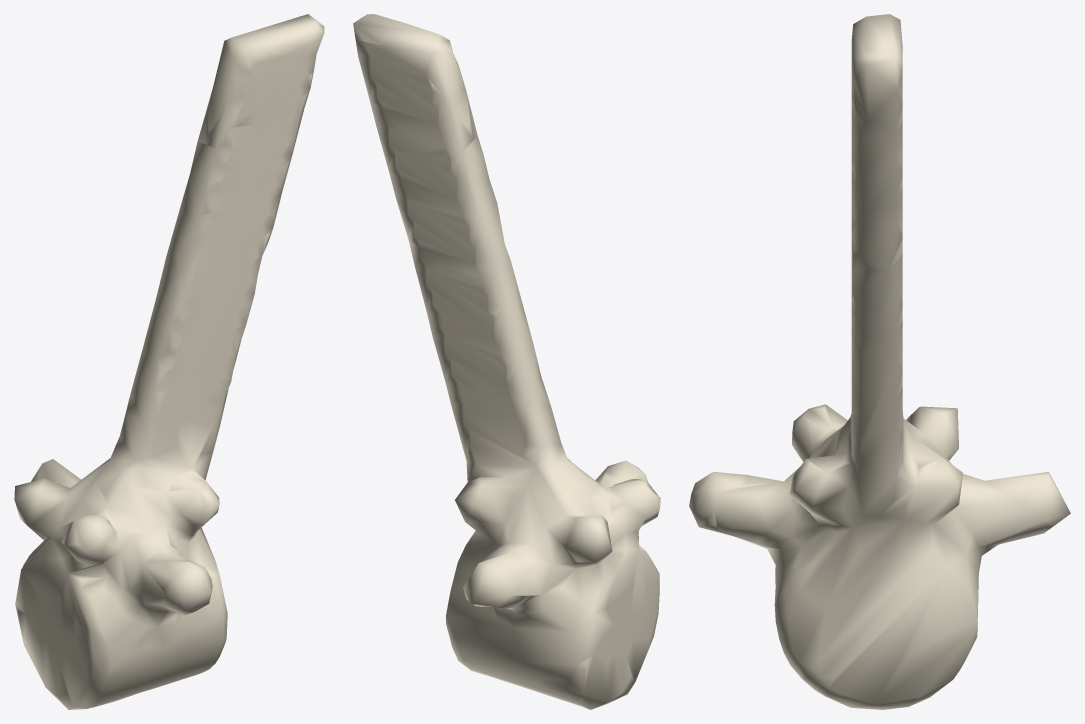
The model's file is thoracic_6.glb.
3 renders of one model, left to right at view 1: azimuth 30°, elevation 25°; view 2: azimuth 150°, elevation 25°; view 3: azimuth 270°, elevation 25°, orthographic. The views are drawn at different scales.
Visible parts, largest first — view 1: geometry_0; view 2: geometry_0; view 3: geometry_0.
Boxes of the visible parts, x1,y1,x2,y2 form: geometry_0: [14, 14, 324, 709]; geometry_0: [353, 14, 660, 709]; geometry_0: [689, 14, 1070, 709].
Bounding box in the file's own units: 0.1805 × 0.3864 × 0.18.
